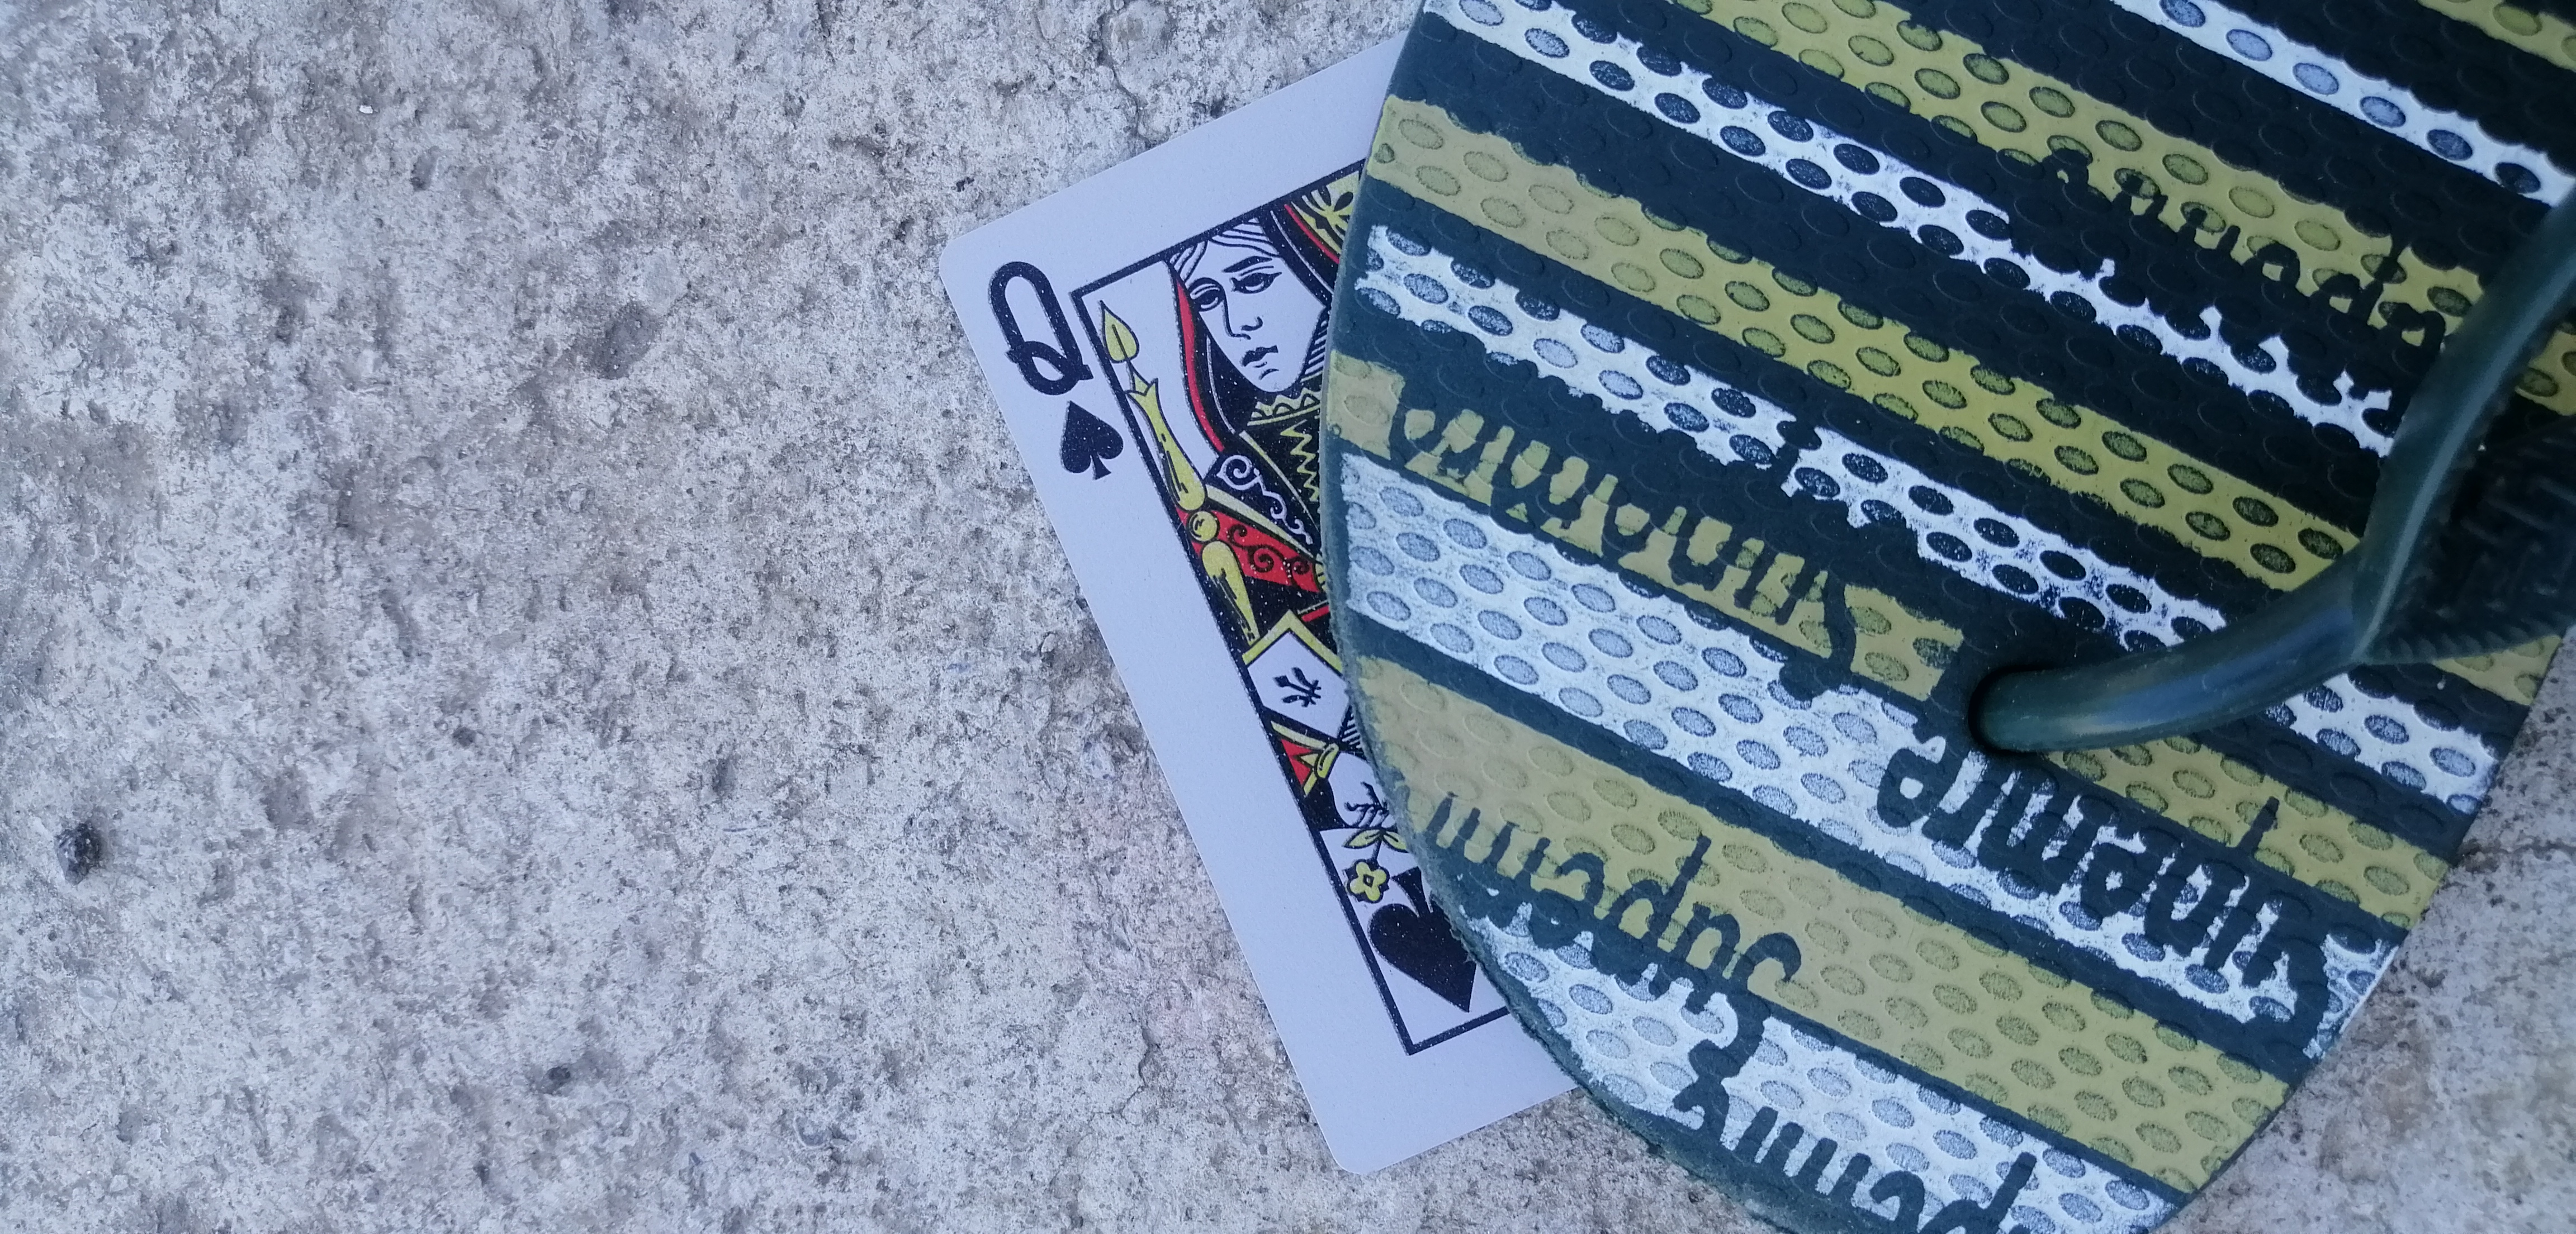queen: (879, 30, 1585, 1178)
